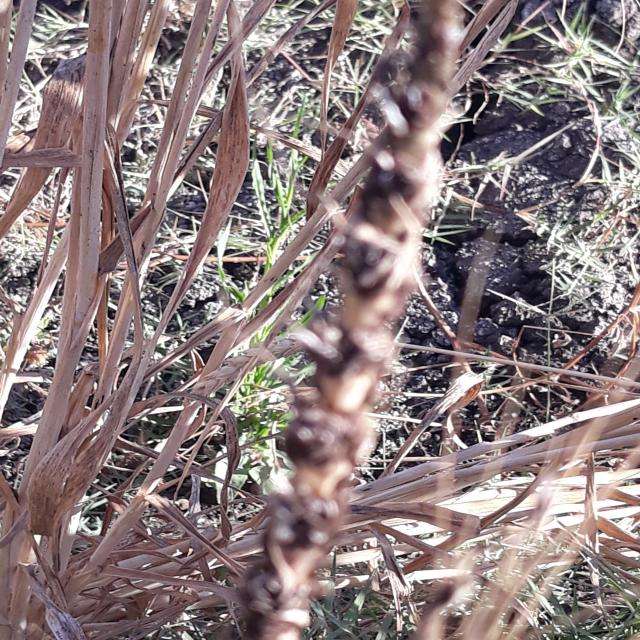loose_charred: (213, 0, 535, 640)
